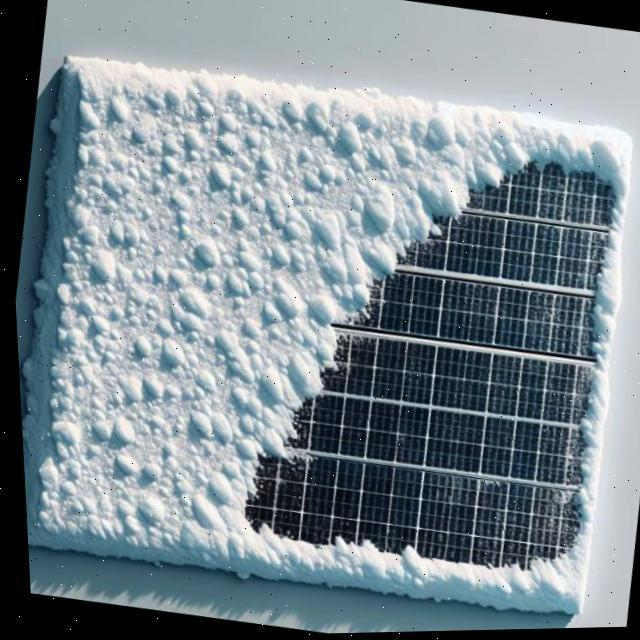Anomaly Solar Panel: (18, 57, 631, 621)
Snow: (19, 57, 631, 621)
